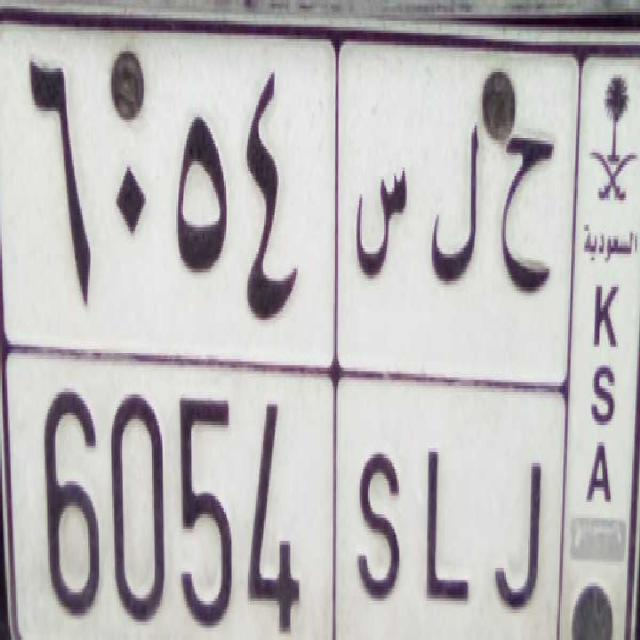license_plate: (3, 340, 564, 640)
